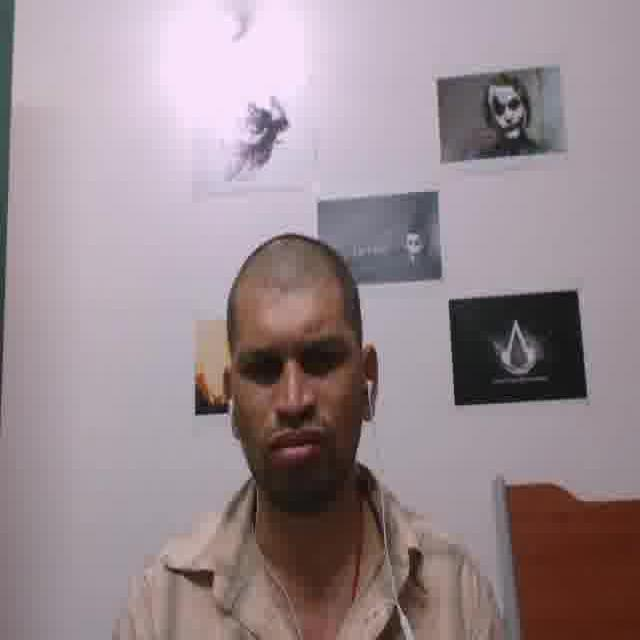Confusion: (231, 275, 354, 492)
